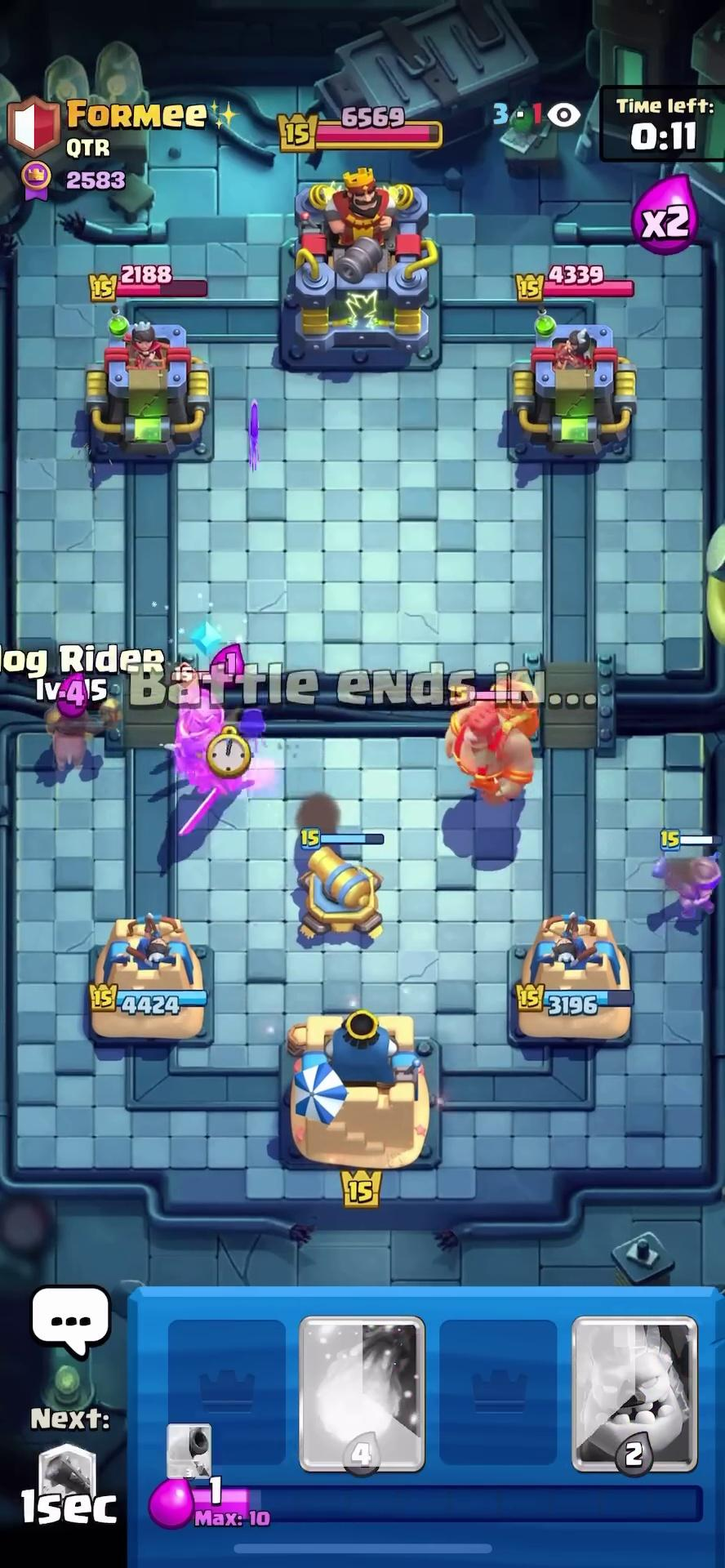cannon: (284, 829, 398, 947)
musketeer: (645, 827, 725, 921)
